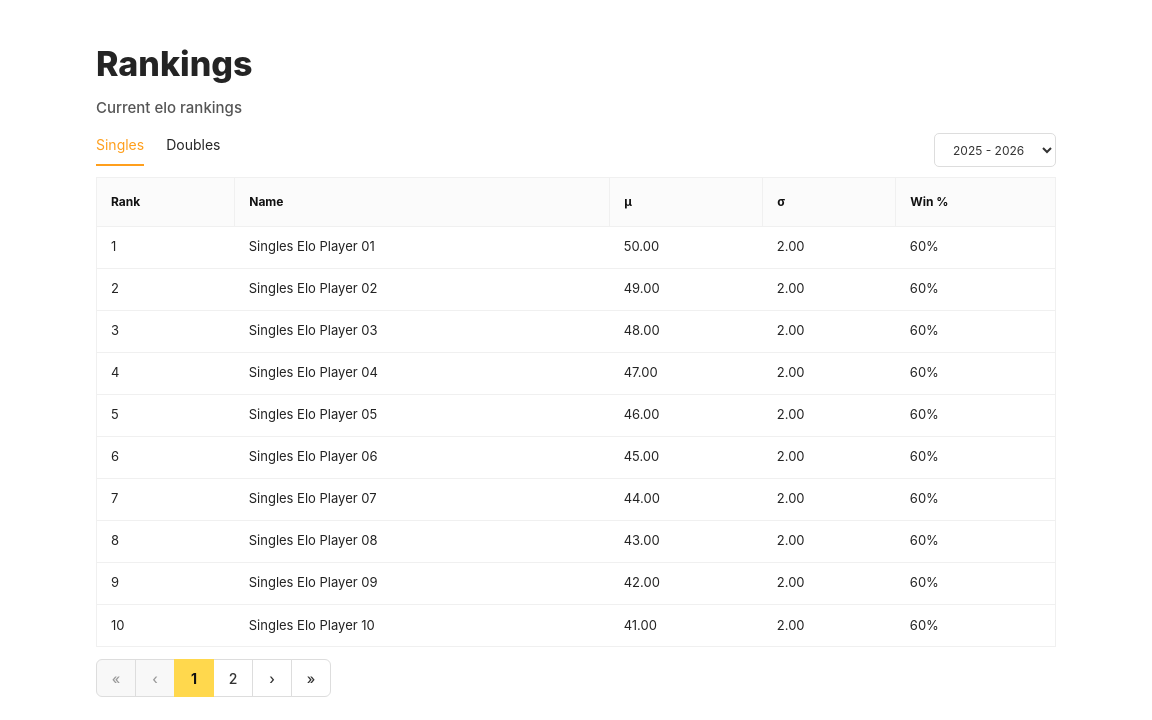
Test: elo rankings reset pagination when event or season changes
Expected: the link "Singles Elo Player 01" is shown, [249, 238, 375, 254]
Step 1. Click the button "2" → (233, 678), box [213, 659, 253, 697]
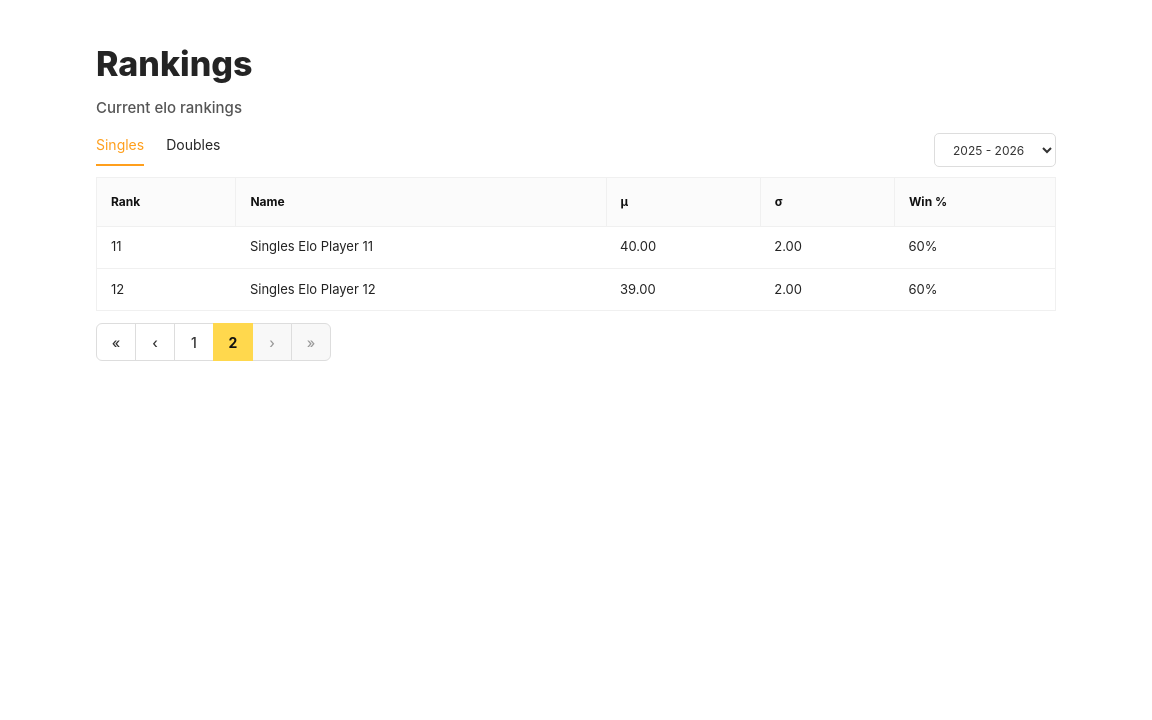
Now the link "Singles Elo Player 11" is shown, box [250, 238, 373, 254]
Step 2. Click the button "Doubles" → (193, 150), box [166, 134, 220, 166]
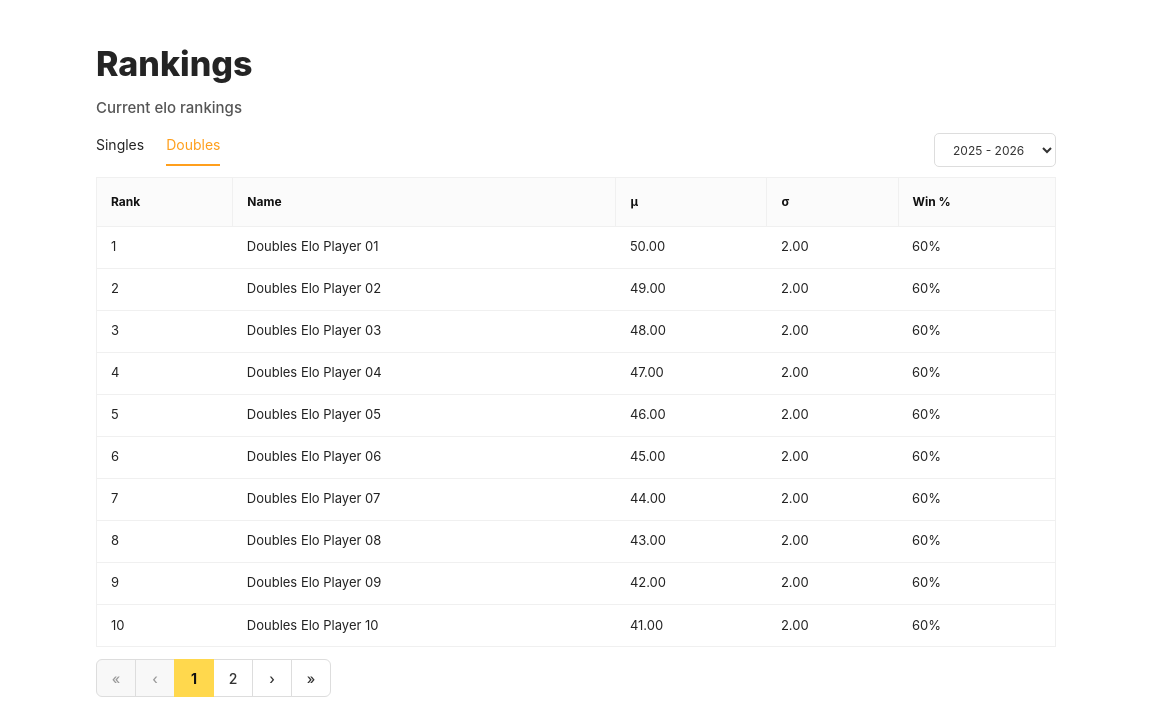
Expected: the text "Doubles Elo Player 11" is not shown
Now the link "Doubles Elo Player 01" is shown, box [247, 238, 378, 254]
Step 3. Click the button "2" → (233, 678), box [213, 659, 253, 697]
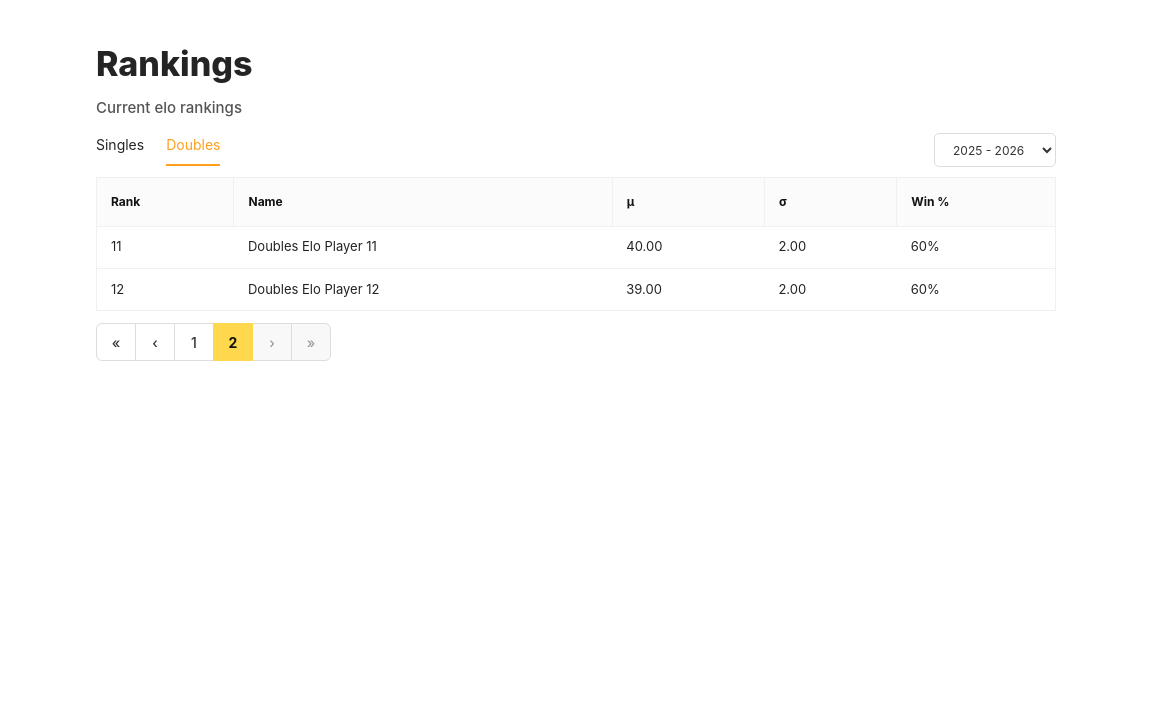
Now the link "Doubles Elo Player 11" is shown, box [248, 238, 377, 254]
Step 4. Select "ALL" in the dropdown → (995, 150), box [934, 133, 1056, 167]
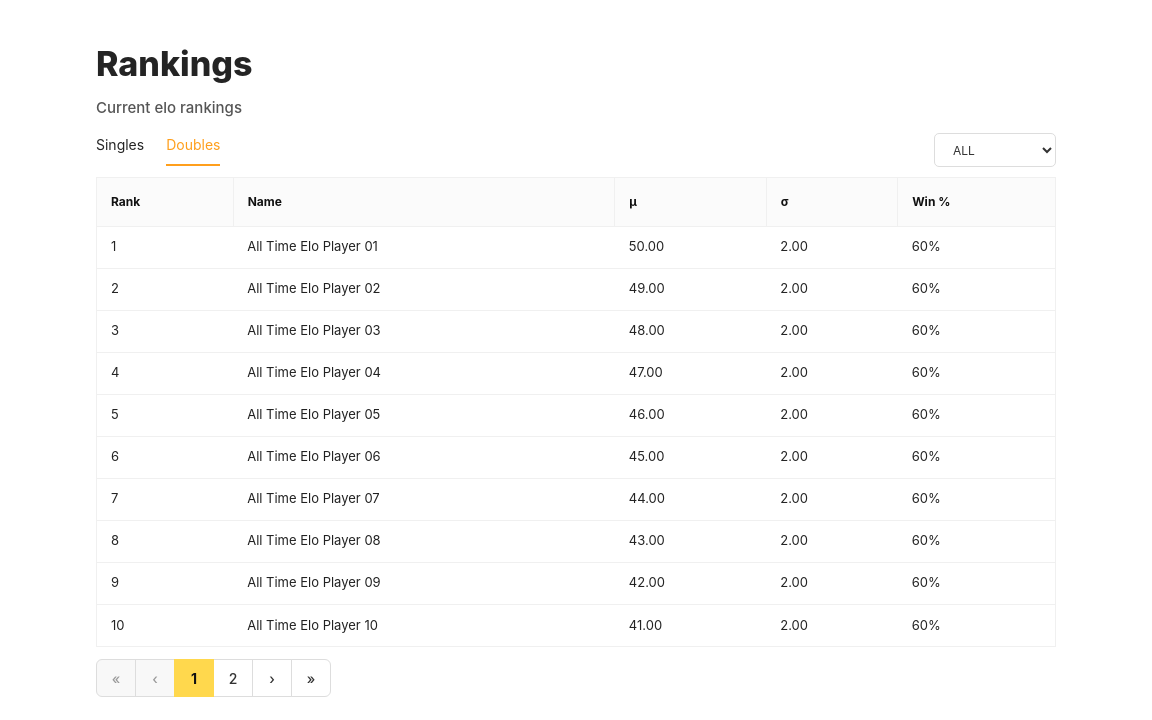
Now the link "All Time Elo Player 01" is shown, box [247, 238, 378, 254]
